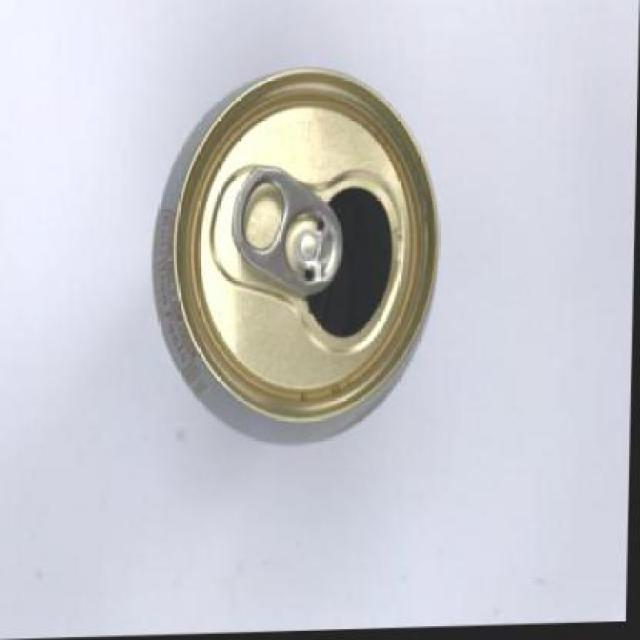Metal: (139, 63, 439, 448)
